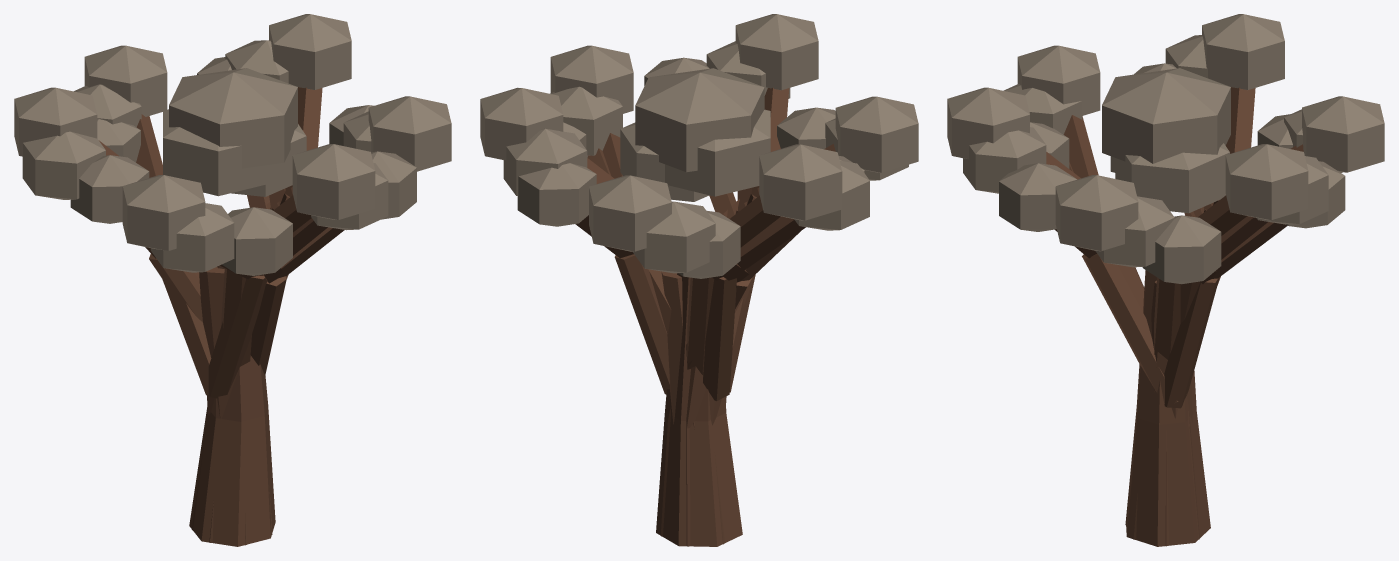
File: tree_apple_winter.glb
3 views of the same model, side by side, from view 1: azimuth 30°, elevation 25°; view 2: azimuth 150°, elevation 25°; view 3: azimuth 270°, elevation 25° (orthographic).
Visible parts, largest first — view 1: Apple_short_trunk.002, Apple_bare_top_twigs_canopy.002, Apple_bare_twigs_canopy.017, Apple_bare_twigs_canopy.013, Apple_bare_twigs_canopy.016, Apple_bare_twigs_canopy.012, Apple_bare_top_twigs_canopy, Apple_bare_twigs_canopy.014, Apple_bare_twigs_canopy.003, Apple_bare_twigs_canopy.015, Apple_bare_twigs_canopy.010, Apple_bare_twigs_canopy.004 (+20 smaller); view 2: Apple_short_trunk.002, Apple_bare_top_twigs_canopy.002, Apple_bare_twigs_canopy.015, Apple_bare_twigs_canopy.016, Apple_bare_twigs_canopy.014, Apple_bare_twigs_canopy.017, Apple_bare_top_twigs_canopy, Apple_bare_twigs_canopy.013, Apple_bare_twigs_canopy.002, Apple_bare_twigs_canopy.007, Apple_bare_twigs_canopy.012, Apple_orchard_fork.001 (+19 smaller); view 3: Apple_short_trunk.002, Apple_bare_top_twigs_canopy.002, Apple_bare_twigs_canopy.013, Apple_bare_twigs_canopy.015, Apple_bare_twigs_canopy.014, Apple_bare_twigs_canopy.012, Apple_bare_top_twigs_canopy.001, Apple_bare_twigs_canopy.017, Apple_bare_twigs_canopy.016, Apple_bare_twigs_canopy.006, Apple_bare_twigs_canopy.011, Apple_orchard_fork.005 (+18 smaller).
Boxes of the visible parts, x1,y1,x2,y2 form: Apple_short_trunk.002: (189,265,275,546); Apple_bare_top_twigs_canopy.002: (169,68,297,168); Apple_bare_twigs_canopy.017: (292,144,375,219); Apple_bare_twigs_canopy.013: (269,14,351,89); Apple_bare_twigs_canopy.016: (122,175,205,250); Apple_bare_twigs_canopy.012: (368,96,451,171); Apple_bare_top_twigs_canopy: (163,109,273,196); Apple_bare_twigs_canopy.014: (84,45,167,116); Apple_bare_twigs_canopy.003: (22,131,105,199); Apple_bare_twigs_canopy.015: (14,87,97,156); Apple_bare_twigs_canopy.010: (222,207,292,275); Apple_bare_twigs_canopy.004: (150,203,234,272); Apple_short_trunk.002: (656,273,742,546); Apple_bare_top_twigs_canopy.002: (635,68,764,172); Apple_bare_twigs_canopy.015: (759,144,842,220); Apple_bare_twigs_canopy.016: (835,96,918,172); Apple_bare_twigs_canopy.014: (589,175,671,251); Apple_bare_twigs_canopy.017: (735,14,818,90); Apple_bare_top_twigs_canopy: (665,109,770,196); Apple_bare_twigs_canopy.013: (480,87,563,160); Apple_bare_twigs_canopy.002: (632,201,715,273); Apple_bare_twigs_canopy.007: (517,163,596,226); Apple_bare_twigs_canopy.012: (550,45,633,113); Apple_orchard_fork.001: (703,277,736,401); Apple_short_trunk.002: (1126,270,1210,546); Apple_bare_top_twigs_canopy.002: (1102,68,1230,163); Apple_bare_twigs_canopy.013: (1225,144,1308,220); Apple_bare_twigs_canopy.015: (1202,14,1284,90); Apple_bare_twigs_canopy.014: (1302,96,1384,172); Apple_bare_twigs_canopy.012: (1055,175,1138,251); Apple_bare_top_twigs_canopy.001: (1115,143,1229,213); Apple_bare_twigs_canopy.017: (947,87,1029,158); Apple_bare_twigs_canopy.016: (1017,45,1100,115); Apple_bare_twigs_canopy.006: (1142,215,1221,284); Apple_bare_twigs_canopy.011: (999,163,1076,231); Apple_orchard_fork.005: (1082,254,1178,406).
Size of the model in its own units: 1.71 by 2.04 by 1.77.
